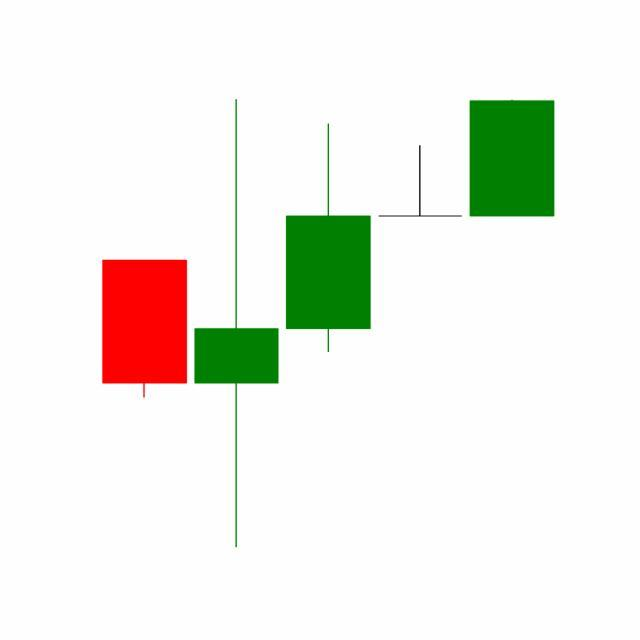Marubozu: (466, 98, 559, 218)
